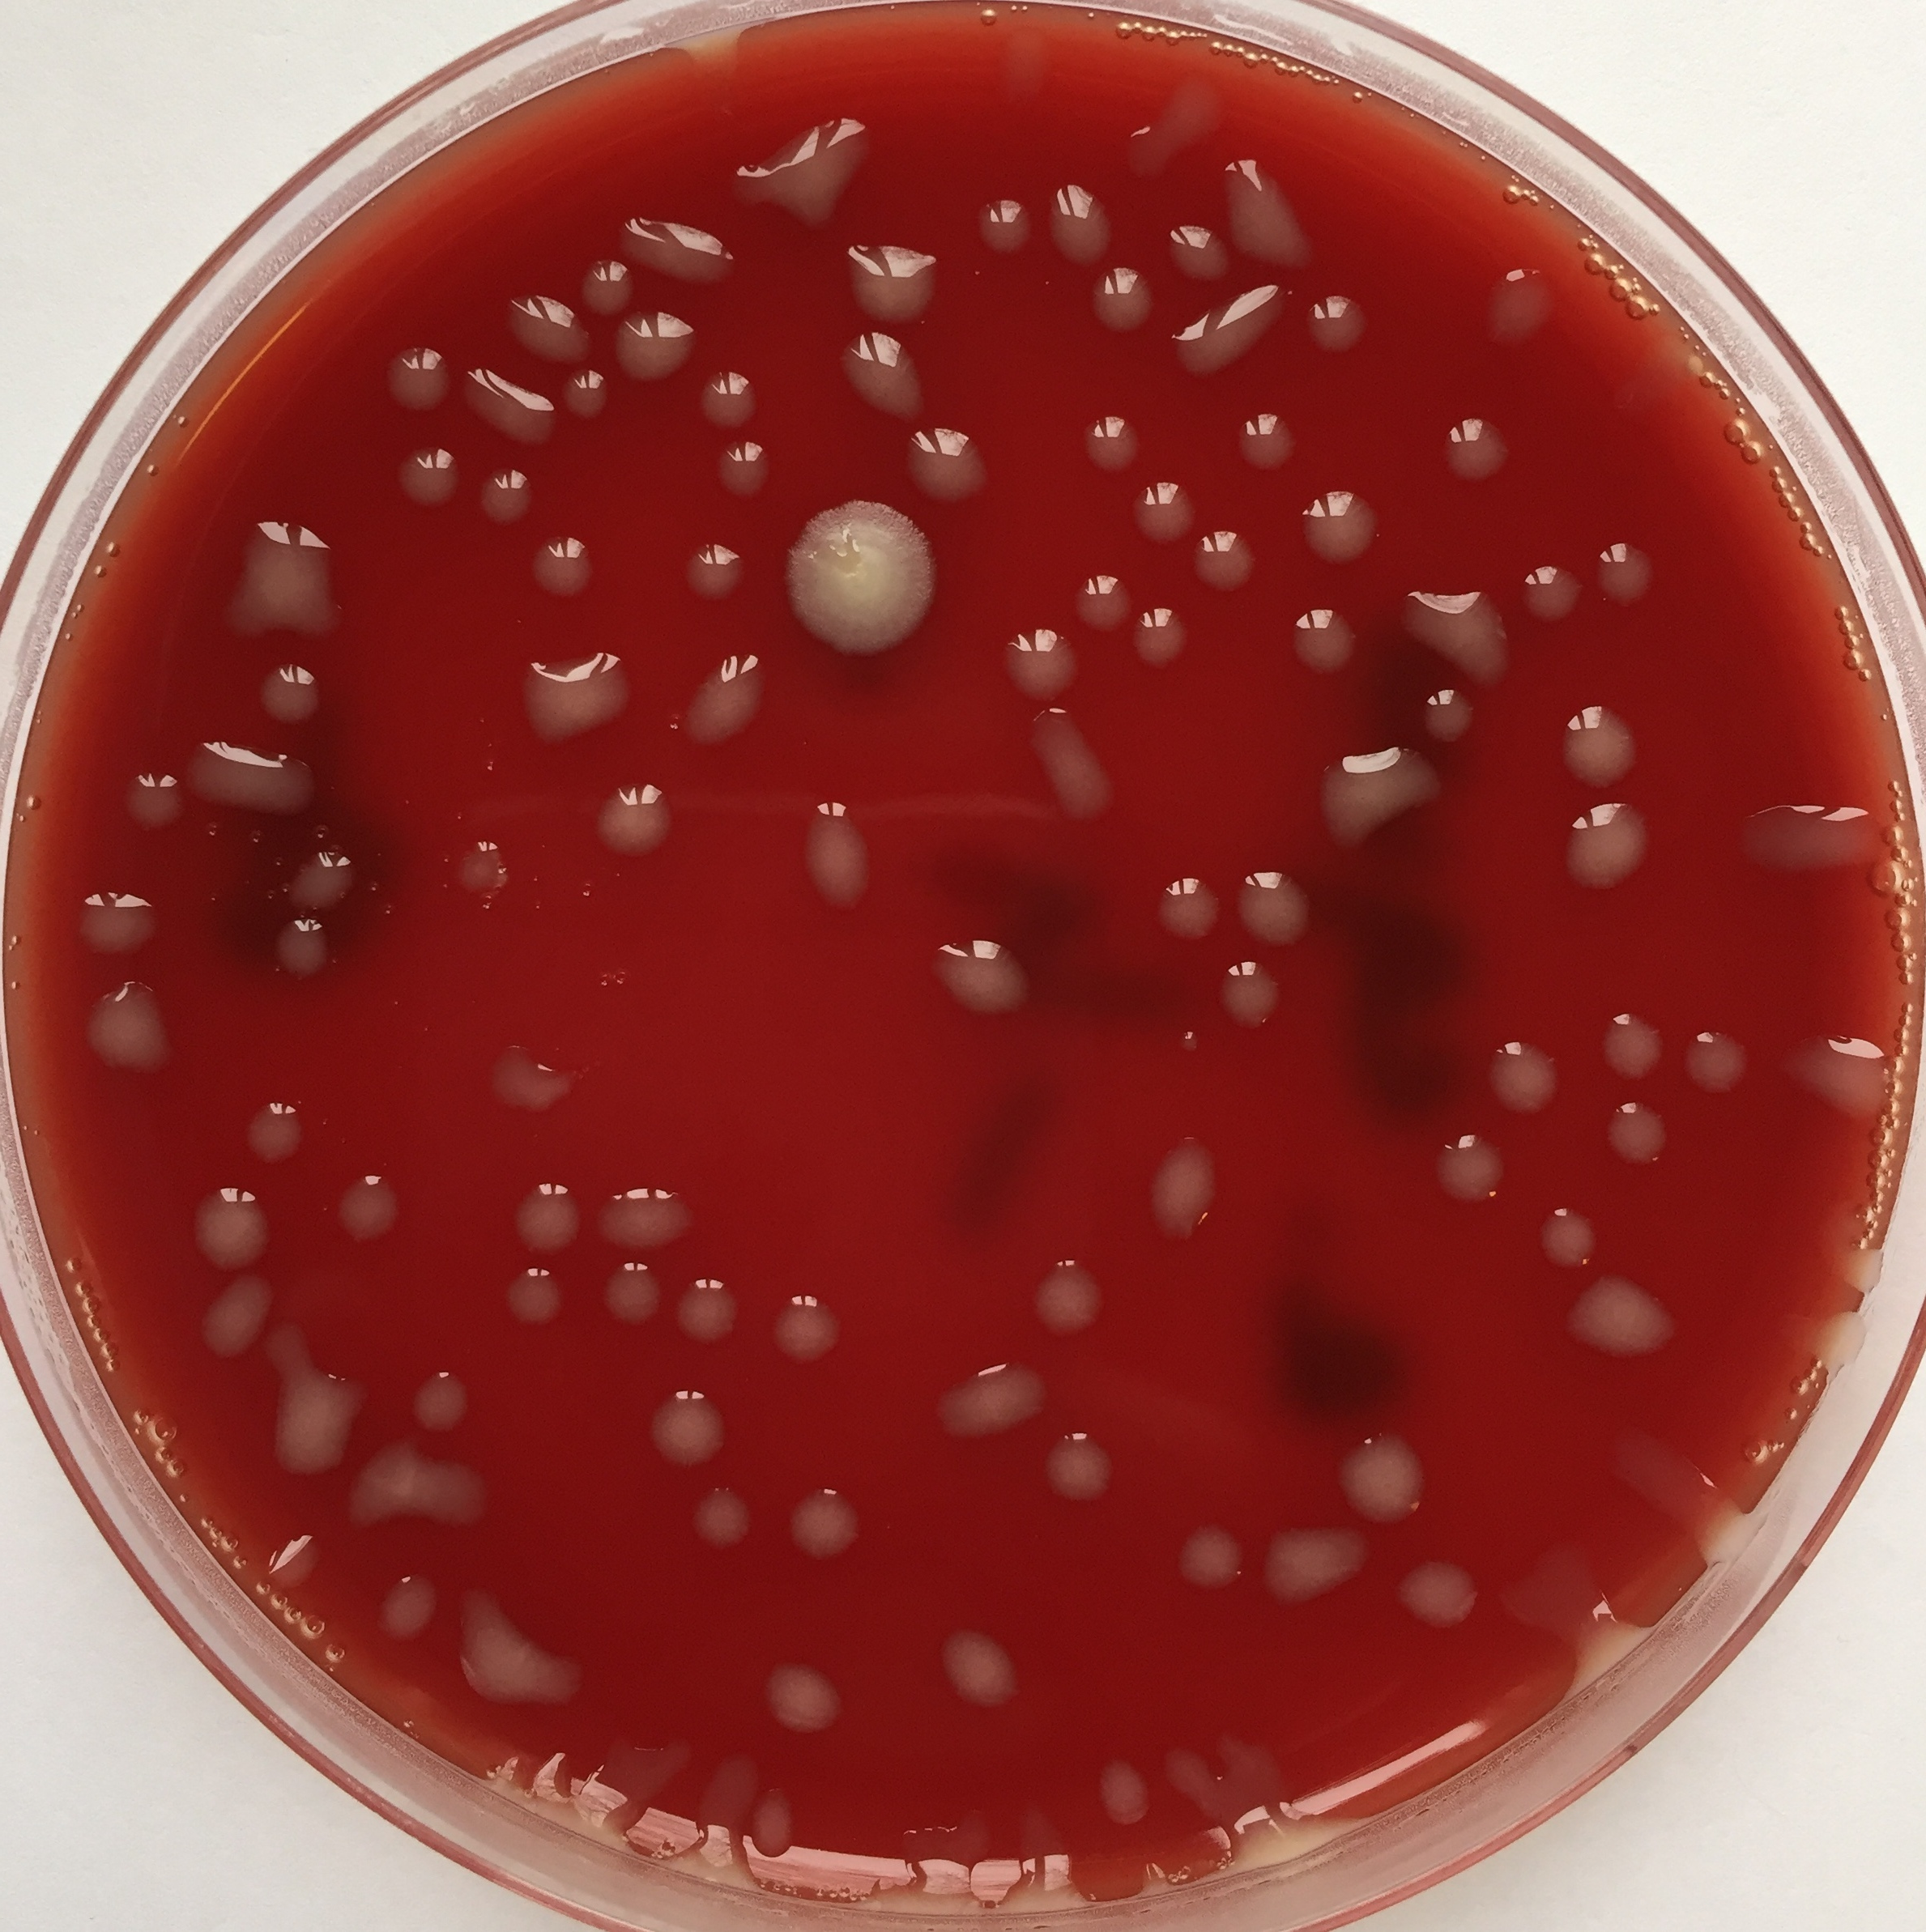sp19: (441, 1579, 605, 1738), (1007, 687, 1123, 839), (728, 95, 870, 215), (1730, 779, 1878, 890), (1319, 721, 1466, 829), (228, 502, 346, 635), (917, 906, 1046, 1022), (275, 1341, 372, 1481), (794, 779, 884, 924), (1018, 1218, 1129, 1331), (72, 977, 187, 1086), (1787, 1014, 1903, 1121), (1168, 282, 1286, 388), (1212, 139, 1310, 264), (515, 635, 630, 740), (340, 1460, 496, 1535), (1549, 1282, 1690, 1364), (1390, 566, 1510, 659), (1550, 793, 1647, 908), (924, 1620, 1041, 1715), (825, 233, 944, 323), (1466, 1019, 1564, 1126), (183, 740, 323, 816), (1321, 1421, 1436, 1511), (663, 645, 769, 742), (1258, 1514, 1360, 1613), (640, 1370, 734, 1474), (1670, 1474, 1765, 1574), (1390, 1555, 1492, 1648), (1549, 1597, 1640, 1701), (1152, 1121, 1228, 1246), (605, 203, 739, 273), (494, 1033, 600, 1121), (1042, 1400, 1127, 1509), (189, 1267, 277, 1371), (900, 407, 993, 502), (459, 361, 556, 451), (944, 1341, 1058, 1417), (1212, 947, 1296, 1047), (838, 323, 933, 407), (496, 273, 586, 360), (1545, 695, 1647, 770), (450, 820, 524, 924), (591, 776, 676, 864), (614, 303, 698, 391), (1474, 250, 1564, 333), (1589, 525, 1663, 626), (638, 16, 750, 83), (1072, 257, 1166, 337), (1166, 1509, 1242, 1606), (785, 1475, 868, 1564), (1236, 855, 1321, 940), (219, 1088, 312, 1162), (242, 658, 335, 732), (388, 435, 460, 531), (1141, 867, 1226, 948), (1515, 541, 1591, 631), (764, 1653, 848, 1733), (1411, 675, 1499, 751), (690, 349, 774, 427), (1441, 407, 1513, 497), (605, 1172, 686, 1252), (67, 880, 168, 943), (1302, 472, 1372, 562), (1663, 1008, 1743, 1088), (765, 1274, 838, 1361), (1586, 1098, 1665, 1176), (287, 829, 363, 910), (337, 1158, 411, 1241), (594, 1255, 674, 1331), (506, 1167, 586, 1243), (113, 760, 183, 844), (1799, 1296, 1863, 1389), (1009, 617, 1085, 695), (196, 1186, 286, 1252), (1042, 164, 1111, 249), (370, 1564, 437, 1650), (1425, 1118, 1501, 1193), (497, 1255, 577, 1327), (1071, 393, 1138, 478), (1118, 465, 1203, 532), (1591, 998, 1660, 1077), (1307, 279, 1376, 358), (406, 1354, 469, 1438), (709, 435, 783, 508), (1529, 1195, 1600, 1271), (1191, 525, 1263, 598), (252, 1523, 326, 1594), (690, 1484, 758, 1558), (744, 1777, 802, 1863), (266, 906, 339, 975), (681, 1266, 735, 1356), (1289, 596, 1351, 675), (377, 338, 446, 409), (467, 462, 540, 527), (1236, 404, 1302, 476), (1152, 1738, 1226, 1802), (1136, 605, 1191, 684), (686, 532, 746, 605), (1097, 1743, 1148, 1824), (540, 513, 600, 582), (977, 185, 1037, 254), (1064, 561, 1131, 615), (1173, 204, 1221, 277), (571, 257, 630, 314), (561, 367, 610, 428)
